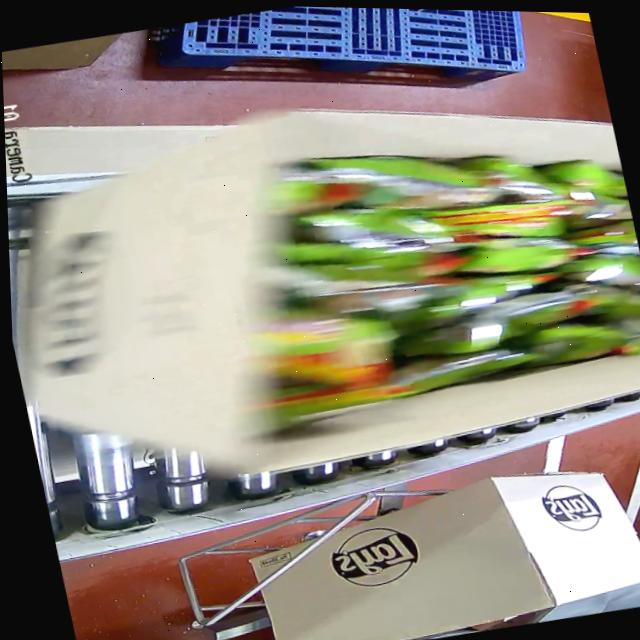YOGURT_HERB: (263, 122, 640, 408)
